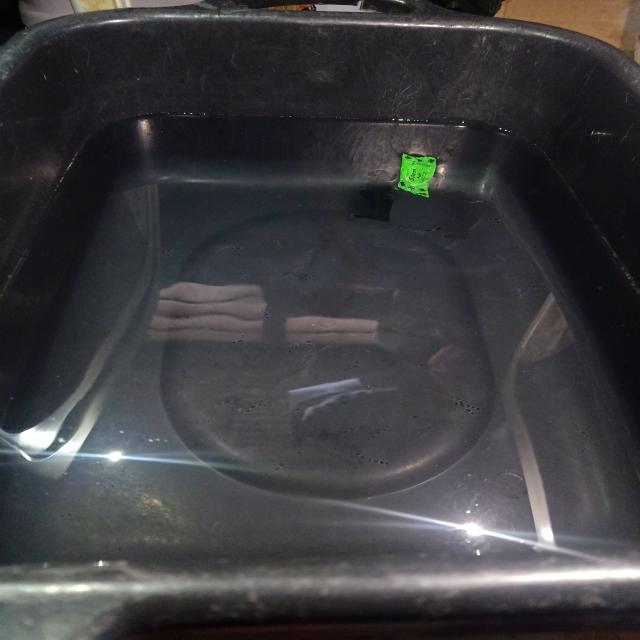Plastic Wrapper: (397, 154, 436, 197)
